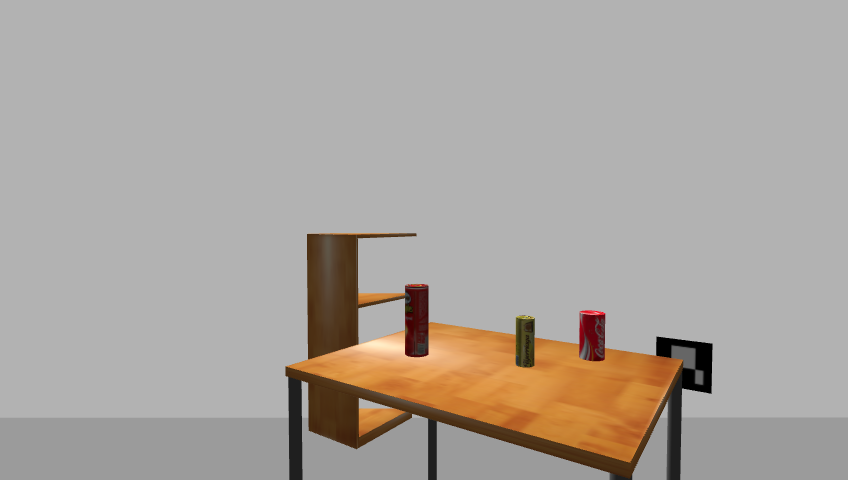aruco marker: (651, 334, 717, 395)
biscuits pack: (514, 316, 536, 369)
bookshelf: (301, 229, 421, 453)
coke can: (578, 310, 607, 362)
dinner table: (278, 325, 694, 479)
pringles can: (402, 284, 431, 359)
